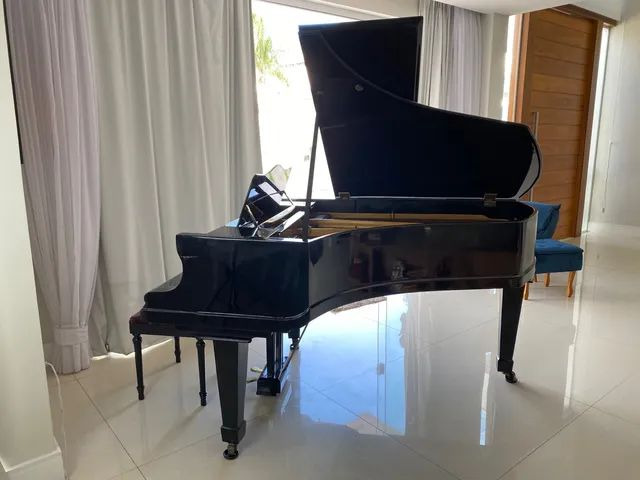Piano: (123, 4, 545, 471)
